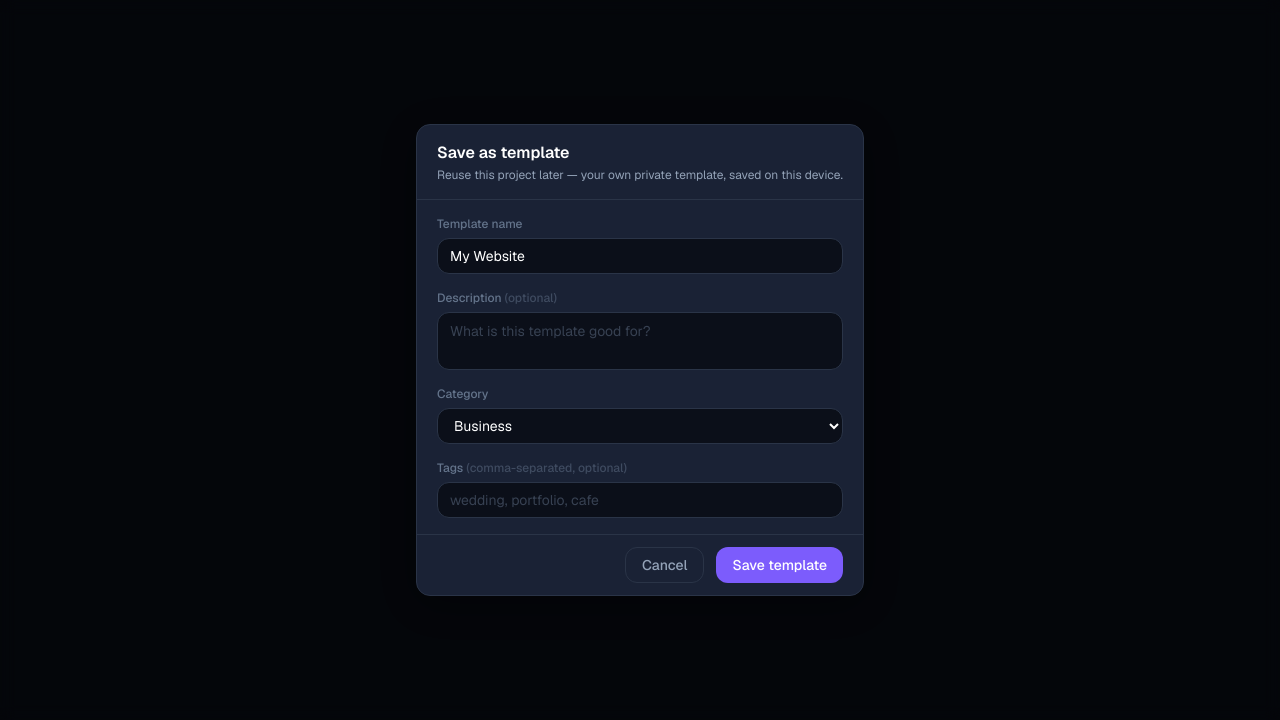
Test: SaveAsTemplateDialog › surfaces a save error and keeps the dialog open
The image size is (1280, 720).
Click the button with test id "sat-save-button": {"x": 780, "y": 565} [716,547,843,583]
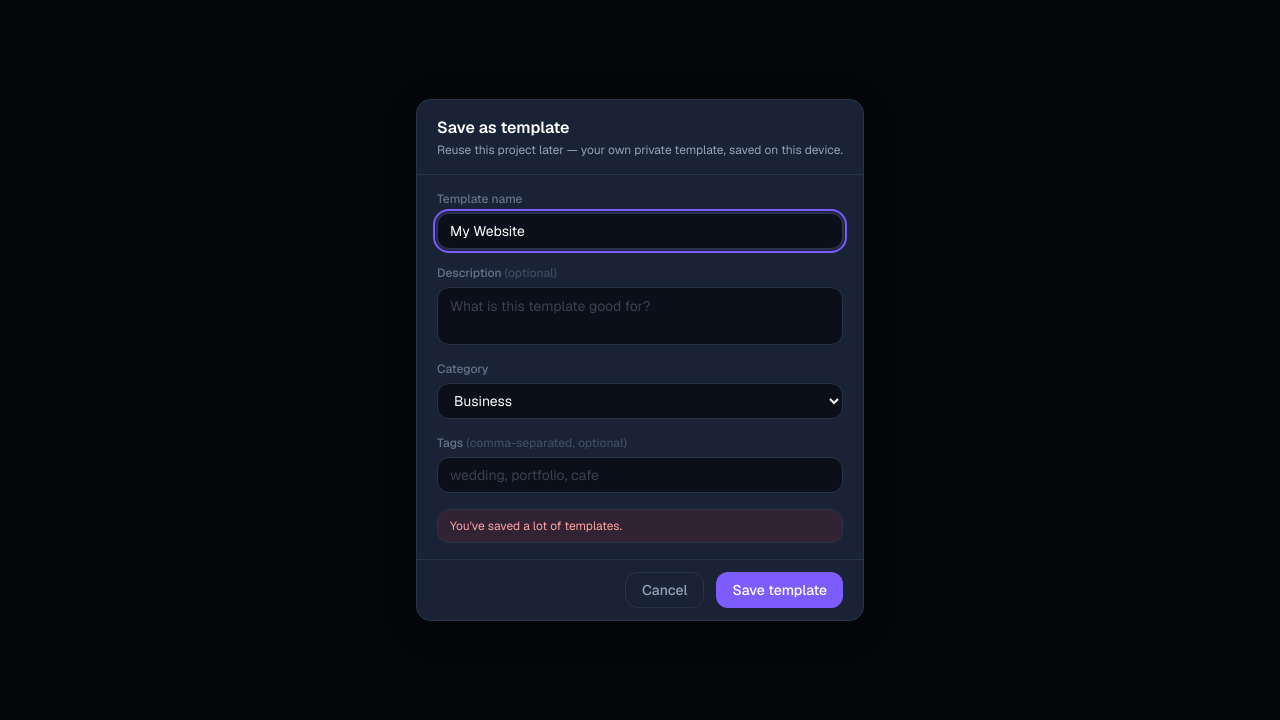
Check: the message with test id "sat-save-error" shows "saved a lot of templates", box [450,518,622,534]
